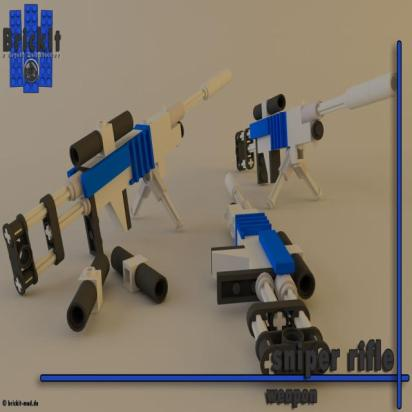Gun: (2, 57, 234, 300), (236, 66, 396, 178)
